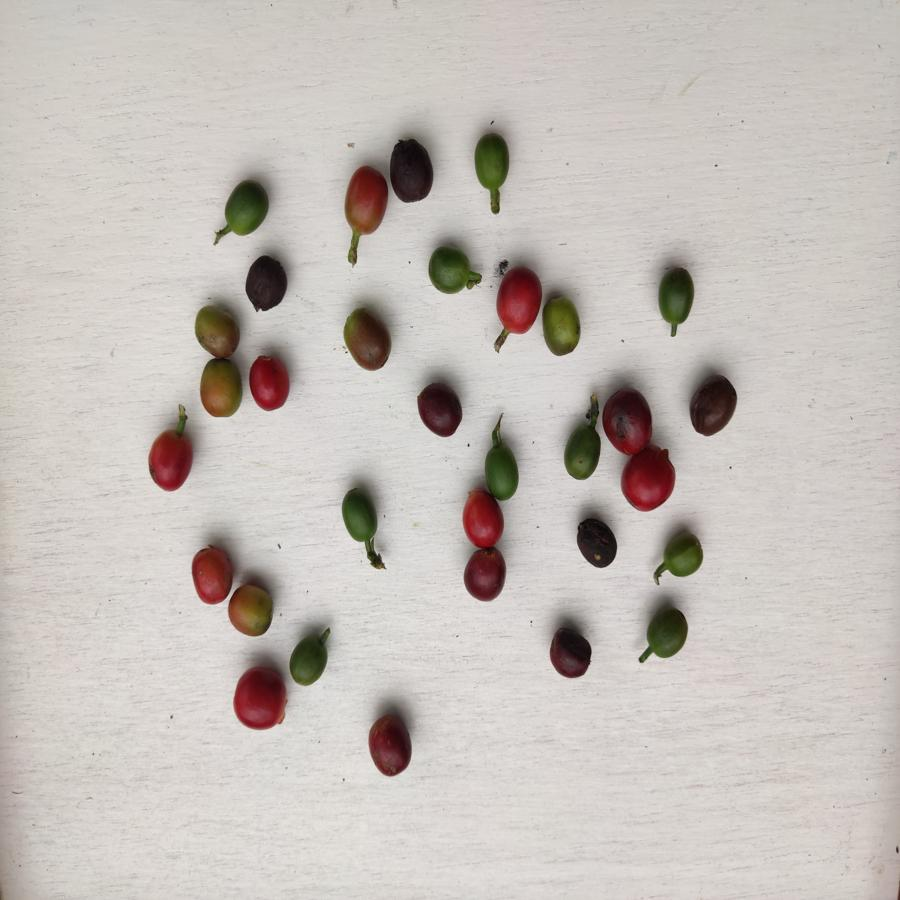Inmaduro: (470, 133, 517, 198), (425, 245, 482, 298), (339, 486, 385, 550), (221, 177, 270, 234), (655, 264, 698, 326), (645, 608, 688, 662), (481, 442, 521, 500), (288, 637, 333, 688), (563, 424, 600, 483), (663, 533, 710, 577)
Maduro: (232, 664, 289, 734), (620, 449, 679, 515), (497, 265, 543, 338), (144, 431, 196, 493), (246, 356, 296, 412), (190, 545, 233, 604), (462, 494, 506, 549)
Pinton: (339, 308, 395, 373), (341, 165, 388, 233), (197, 359, 243, 419), (229, 583, 277, 638), (543, 294, 582, 358), (193, 305, 240, 357)
Sobremaduro: (602, 390, 660, 453), (687, 375, 738, 438), (367, 713, 413, 782), (416, 383, 467, 440), (389, 138, 433, 203), (461, 548, 510, 604), (245, 255, 291, 313), (545, 628, 593, 683), (572, 518, 620, 571)
